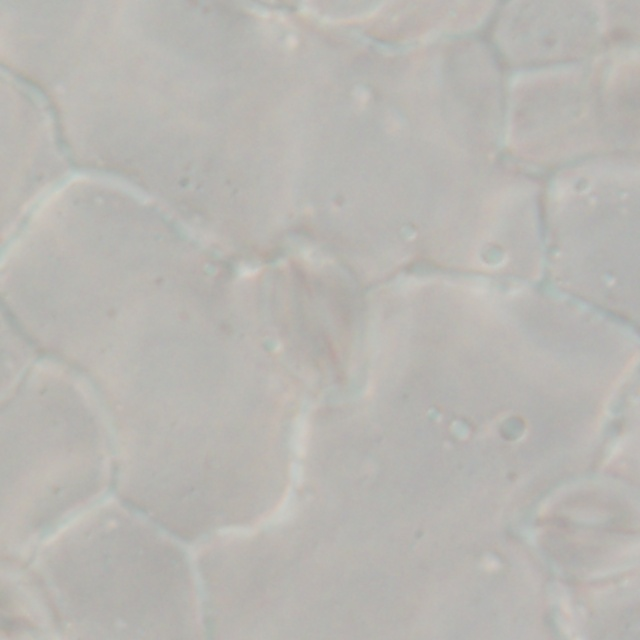center: (294, 274, 340, 359), (559, 505, 627, 539), (14, 594, 50, 603)
stomata-huw1: (260, 235, 383, 408), (529, 473, 639, 582), (1, 558, 63, 639)
